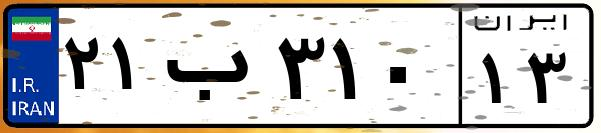0: (385, 28, 445, 110)
1: (330, 28, 385, 110), (475, 38, 525, 113), (110, 28, 158, 98)
2: (57, 26, 110, 100)
3: (270, 28, 330, 110), (525, 38, 570, 115)
ب: (158, 20, 270, 120)
